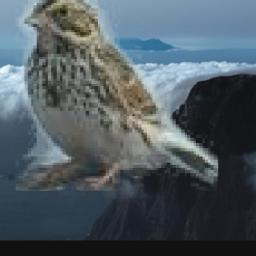Sparrow: (16, 0, 218, 192)
